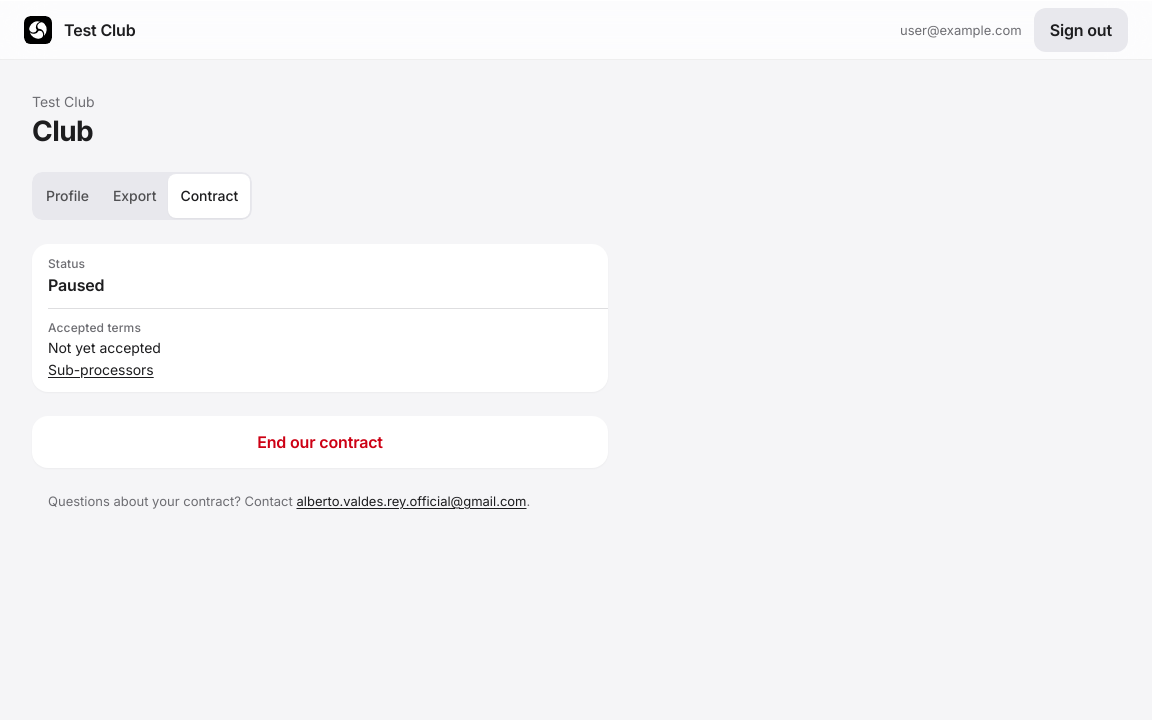
ClubGate › shows the restricted club area to an admin of a suspended club
Click the tab "Profile". click: (67, 196)
box: [34, 174, 101, 218]
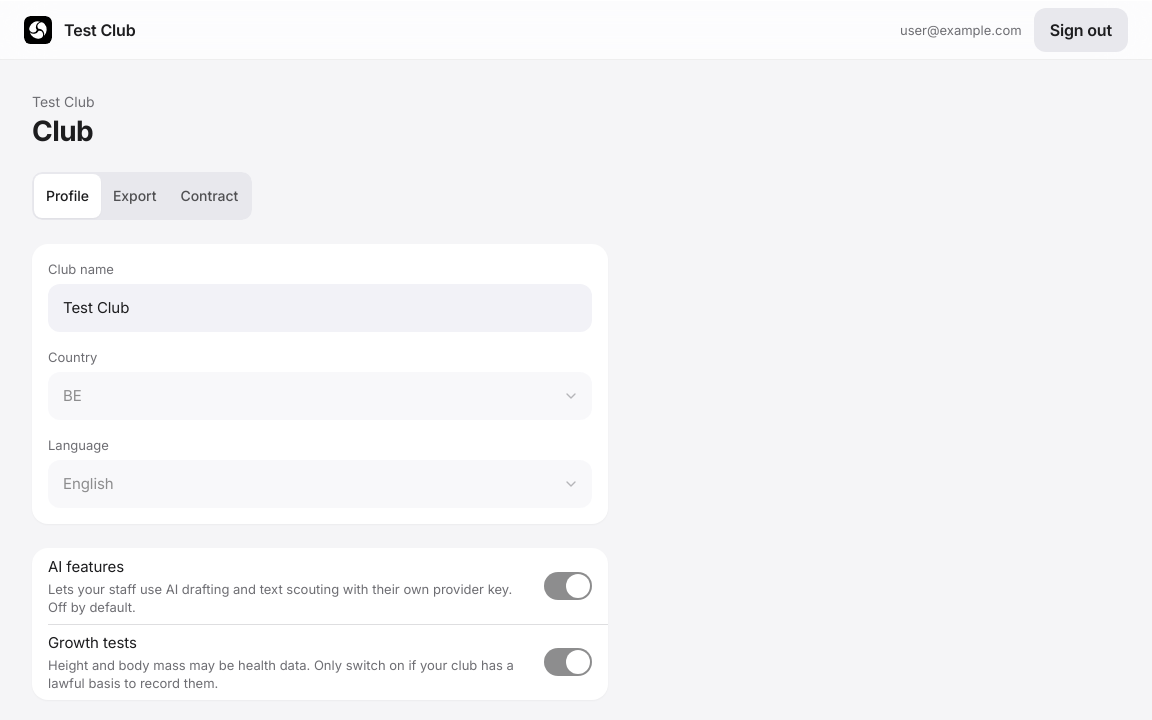
Result: the field is disabled at [48, 284, 592, 332]
